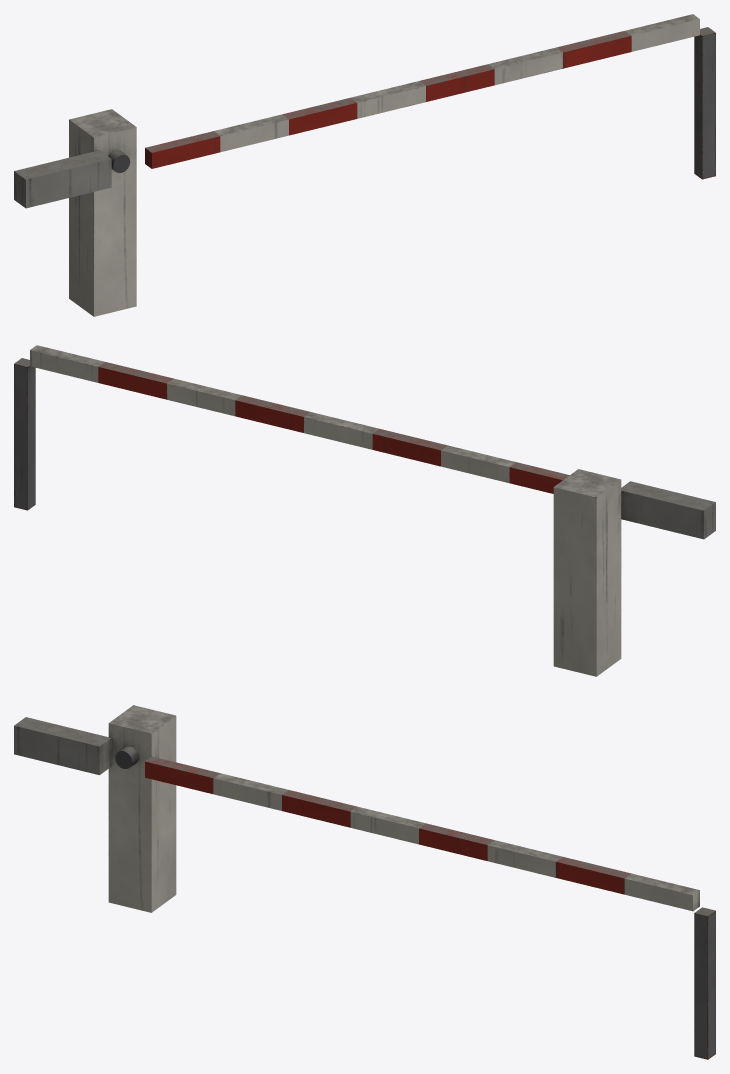
The model's file is SM_RoadBarrier_Boom.fbx.
The picture shows the model from 3 angles, top to bottom: view 1: azimuth 30°, elevation 25°; view 2: azimuth 150°, elevation 25°; view 3: azimuth 330°, elevation 25°; orthographic projection.
Visible parts, largest first — view 1: SM_RoadBarrier_Boom; view 2: SM_RoadBarrier_Boom; view 3: SM_RoadBarrier_Boom.
Part boxes in pixels (box(x1,y1,x2,y2)): SM_RoadBarrier_Boom: box(14, 14, 715, 316); SM_RoadBarrier_Boom: box(14, 345, 715, 676); SM_RoadBarrier_Boom: box(14, 705, 715, 1059).
Bounding box in the file's own units: 4.04 × 1 × 0.385.
Materials: 1 (1 with a texture image).
